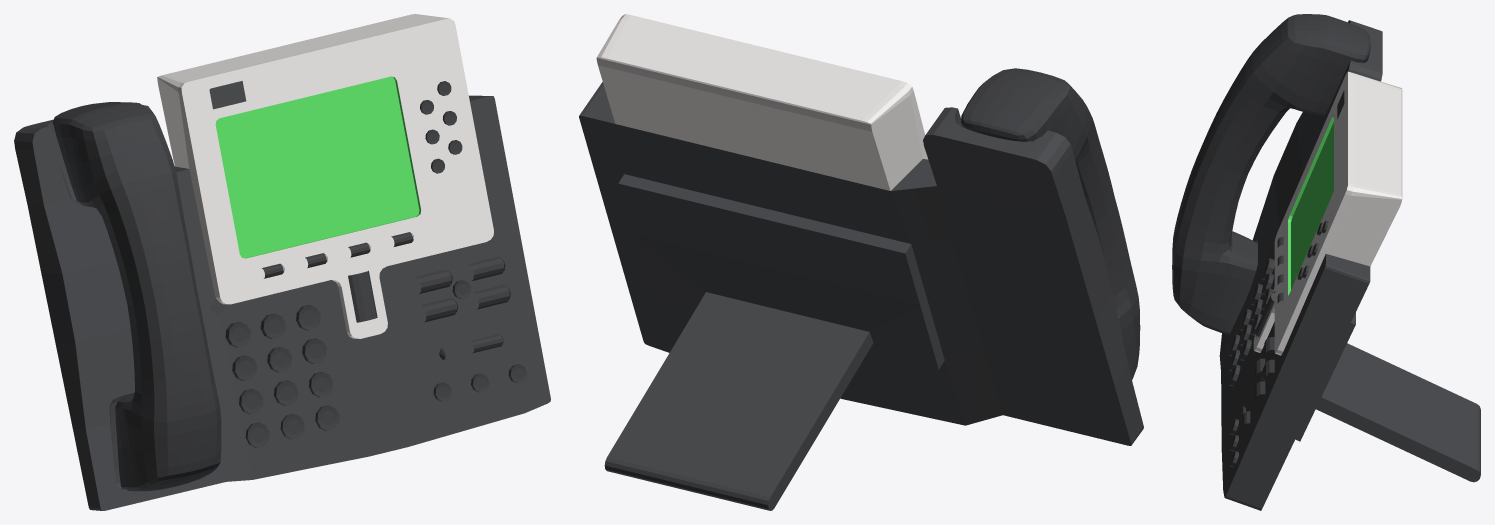
File: Office Phone.glb
The picture shows the model from 3 angles, left to right: view 1: azimuth 30°, elevation 25°; view 2: azimuth 150°, elevation 25°; view 3: azimuth 270°, elevation 25°; orthographic projection. The views are drawn at different scales.
Parts seen in each view (by area): view 1: Phone Body, Handle; view 2: Phone Body, Handle; view 3: Phone Body, Handle.
Part boxes in pixels (left/top/right/bottom): Phone Body: left=14, top=14, right=550, bottom=510; Handle: left=53, top=102, right=221, bottom=491; Phone Body: left=579, top=14, right=1143, bottom=510; Handle: left=961, top=68, right=1140, bottom=379; Phone Body: left=1219, top=20, right=1480, bottom=510; Handle: left=1172, top=14, right=1370, bottom=335.
Bounding box in the file's own units: 4.32 × 3.41 × 2.91.
